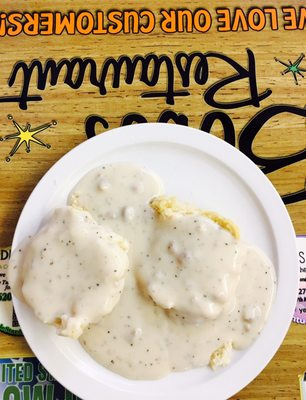sushi: (6, 122, 299, 398)
